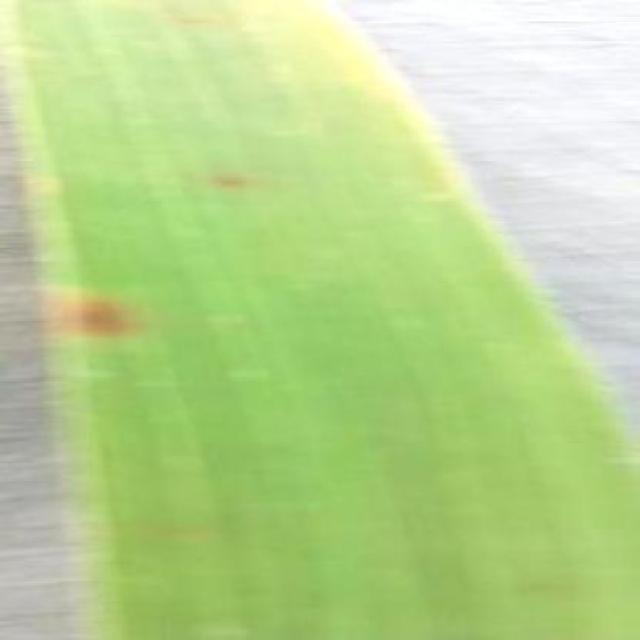Leaf_Blast: (43, 280, 160, 354), (508, 562, 581, 608), (198, 158, 262, 193), (171, 1, 226, 32)
